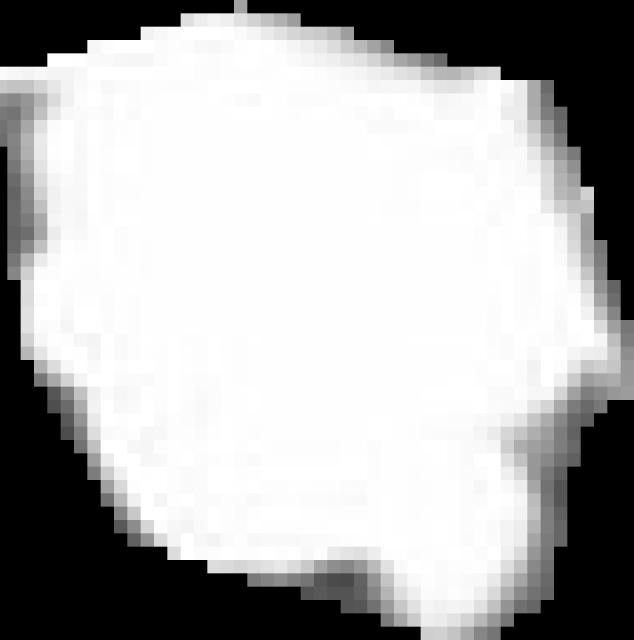tumor_good_chance: (1, 0, 634, 640)
